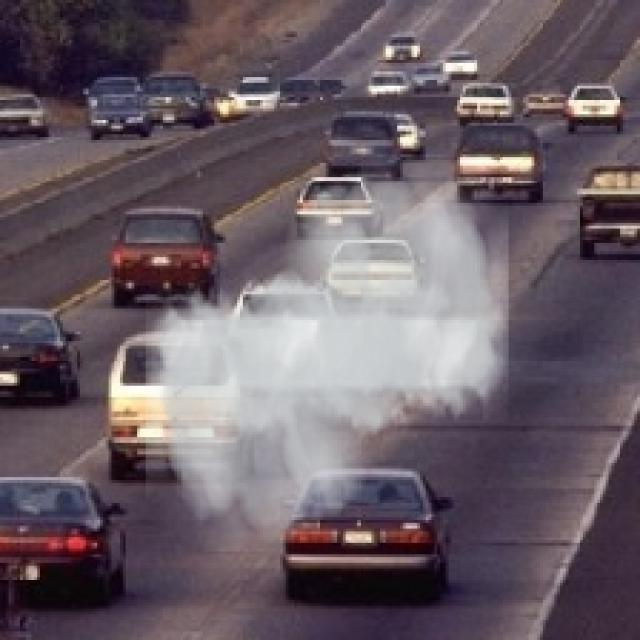Smoke: (146, 154, 508, 552)
